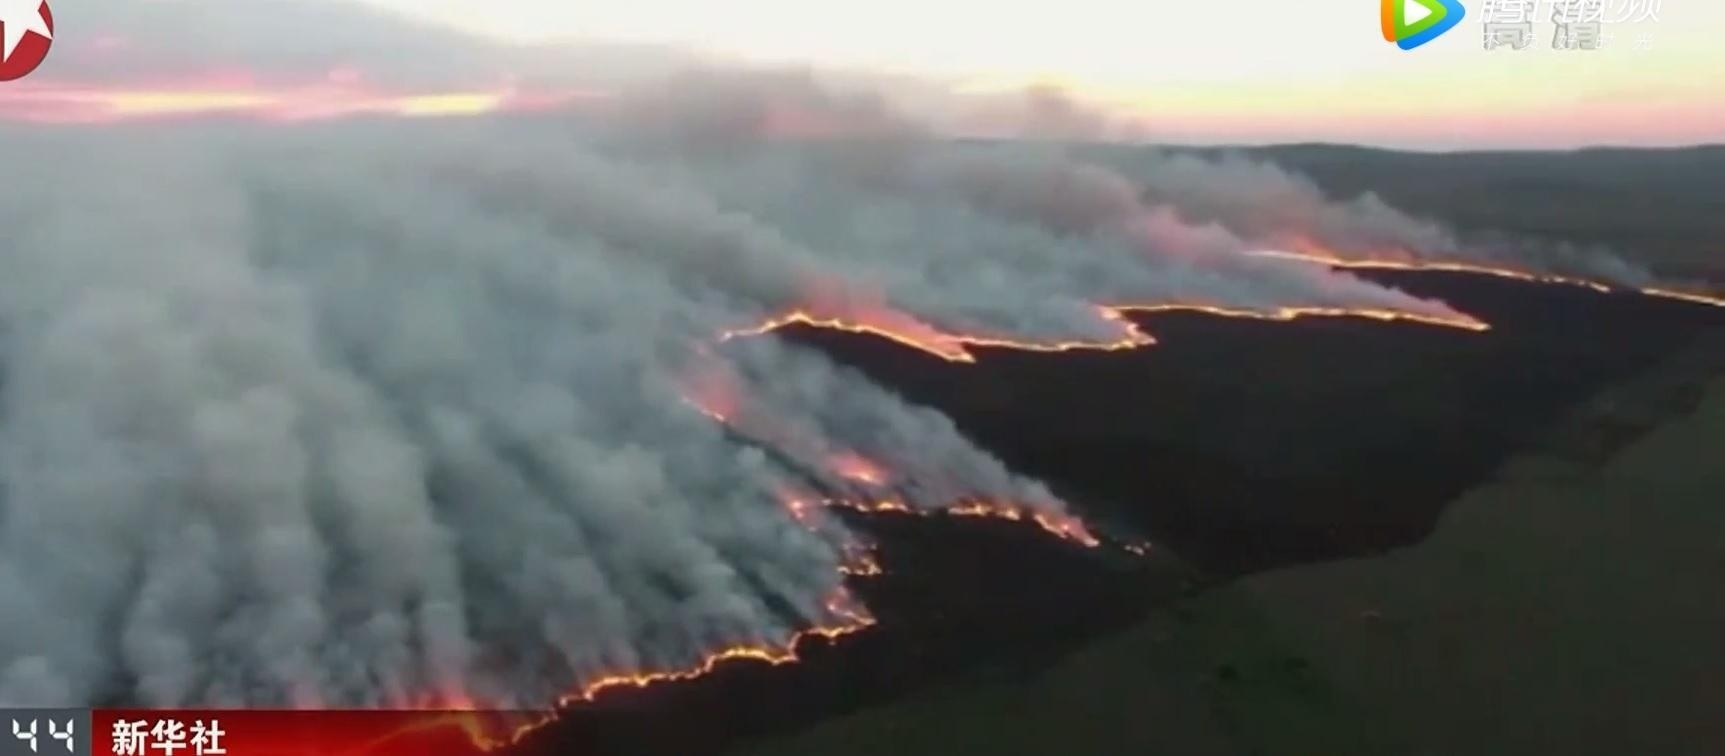fire: (707, 242, 1724, 359)
